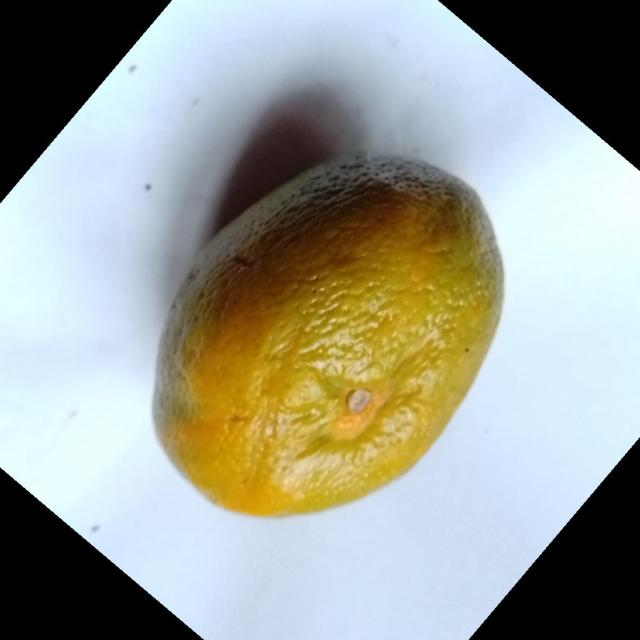fresh orange: (150, 151, 505, 518)
